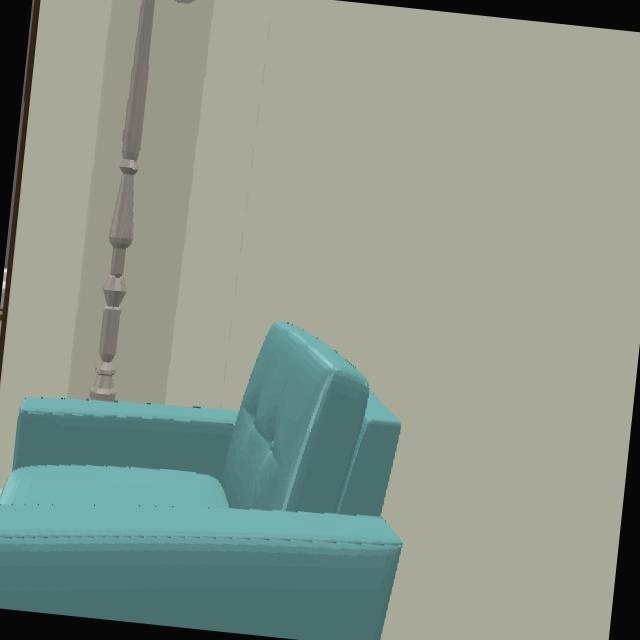sofa: (0, 322, 400, 640)
